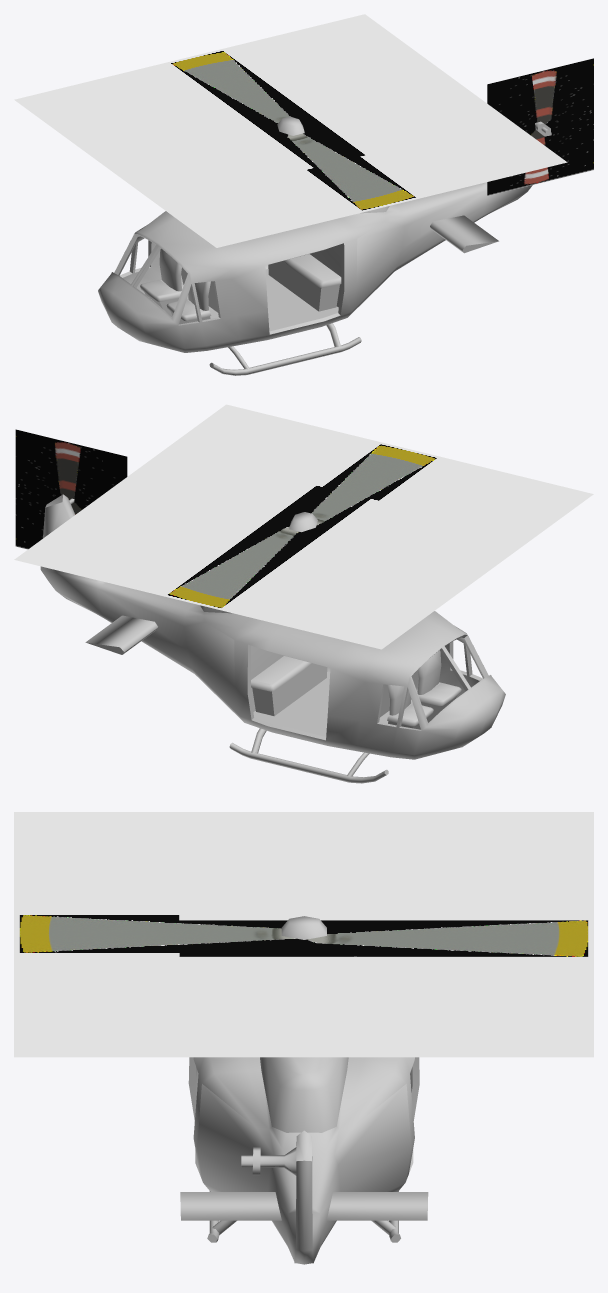
File: Huey.FBX
3 renders of one model, top to bottom at view 1: azimuth 30°, elevation 25°; view 2: azimuth 150°, elevation 25°; view 3: azimuth 270°, elevation 25°, orthographic. The views are drawn at different scales.
Visible parts, largest first — view 1: BigRotor, ChopperBody, BackRotor; view 2: BigRotor, ChopperBody, BackRotor; view 3: BigRotor, ChopperBody.
Boxes of the visible parts, box(x1,y1,x2,y2) form: BigRotor: box(14, 14, 567, 247); ChopperBody: box(98, 116, 551, 375); BackRotor: box(487, 58, 593, 195); BigRotor: box(14, 404, 593, 649); ChopperBody: box(40, 494, 505, 783); BackRotor: box(15, 429, 127, 549); BigRotor: box(14, 812, 593, 1057); ChopperBody: box(180, 916, 428, 1264).
Bounding box in the file's own units: 242 × 106 × 181.
